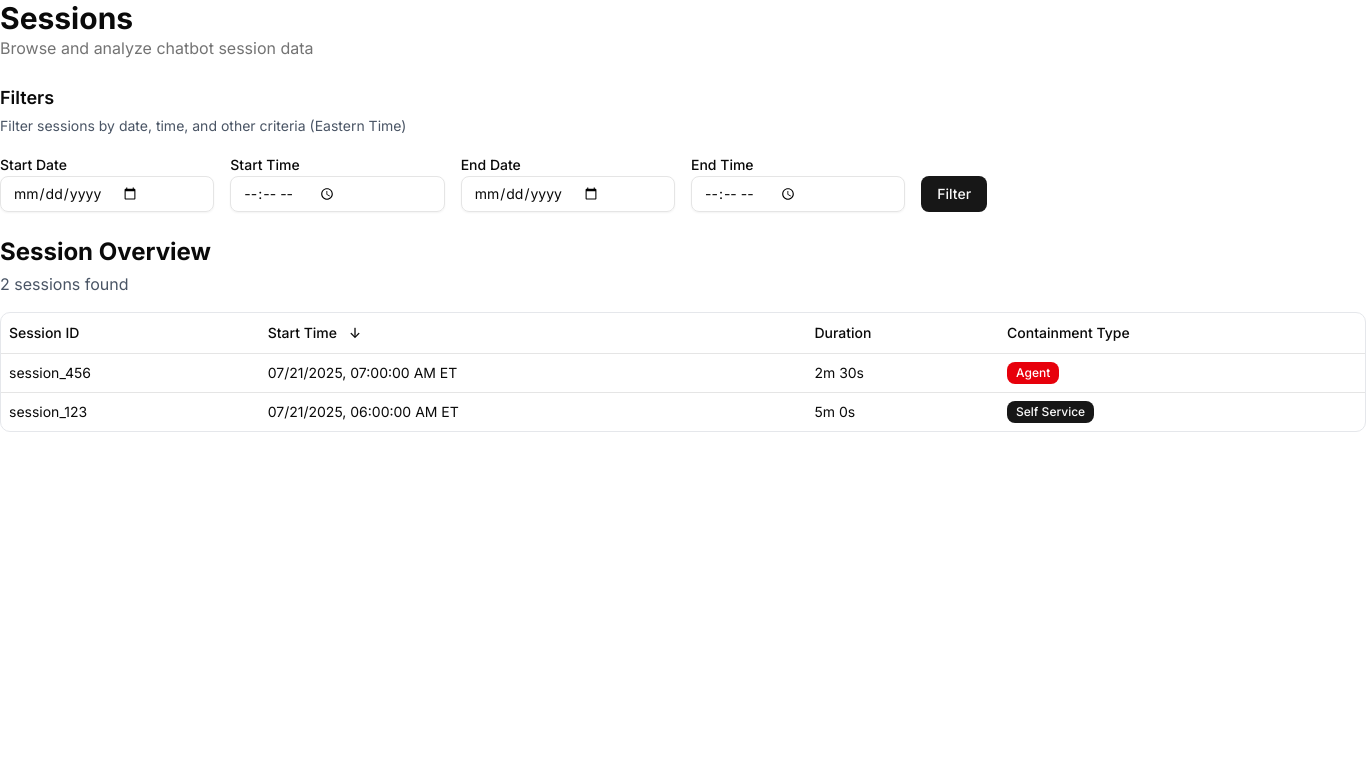
Test case: Sessions Page › navigates between sessions in dialog
This screenshot has width=1366, height=768.
Expected: the heading "Sessions" is shown, [0,0,133,36]
Note: Click on first session row (due to sorting by start_time desc, this will be session_456)
Click the row "session_456 07/21/2025, 07:00:00 AM ET 2m 30s Agent".
click(683, 372)  # box [1,353,1365,392]
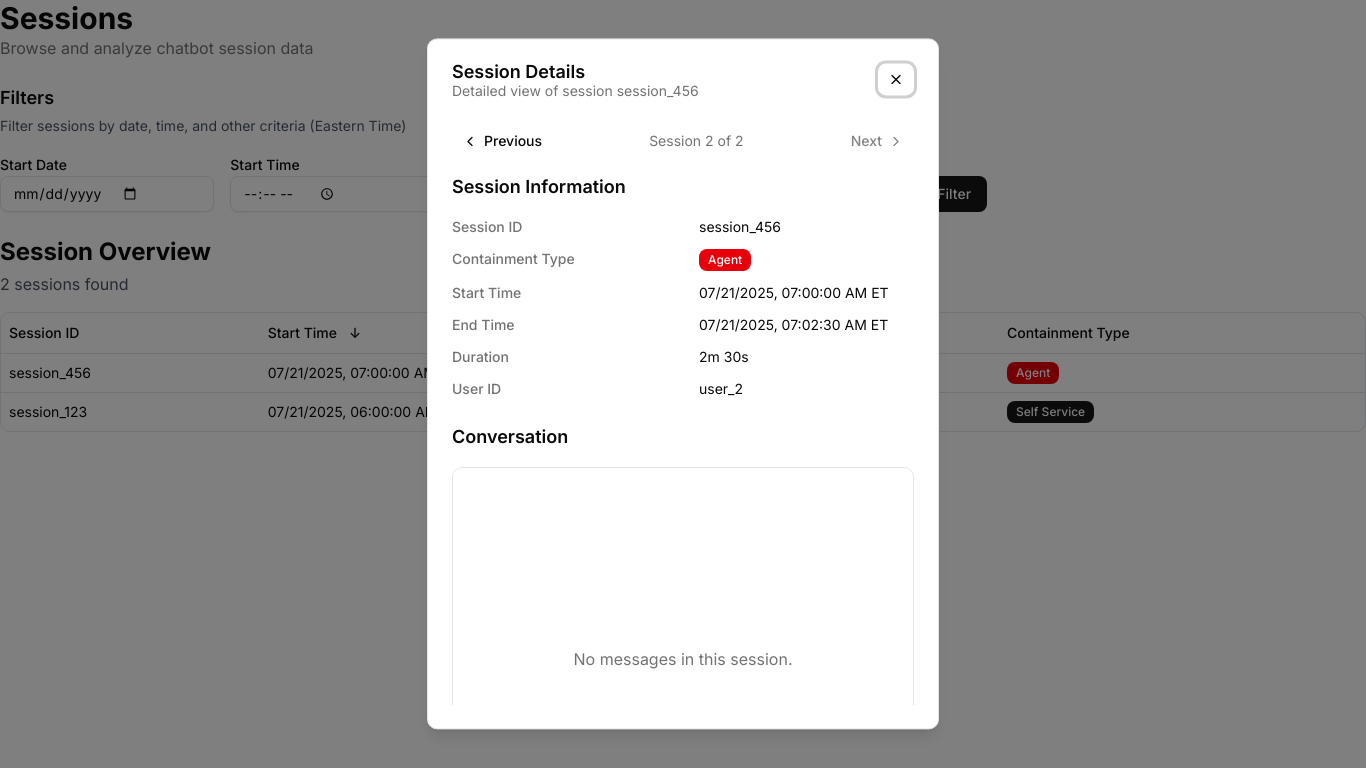
Expected: the text "session_456" is shown 2 times, [1,353,260,392]; [699,218,781,235]
Expected: the text "Session 2 of 2" is shown, [649,132,744,149]
Note: Navigate to previous session (this will go to session_123)
Click the button "Previous".
click(502, 141)  # box [452,125,552,157]
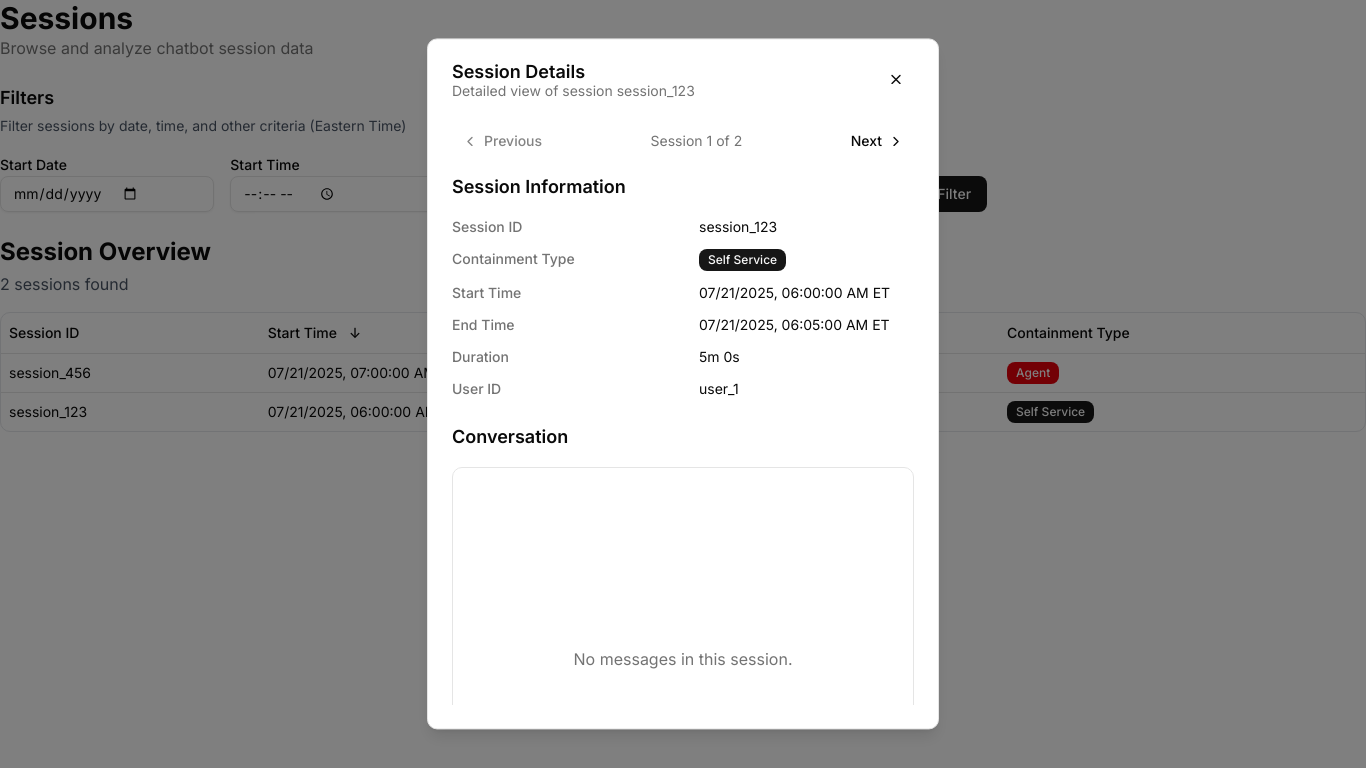
Expected: the text "session_123" is shown 2 times, [1,392,260,430]; [699,218,777,235]
Expected: the text "Session 1 of 2" is shown, [651,132,742,149]
